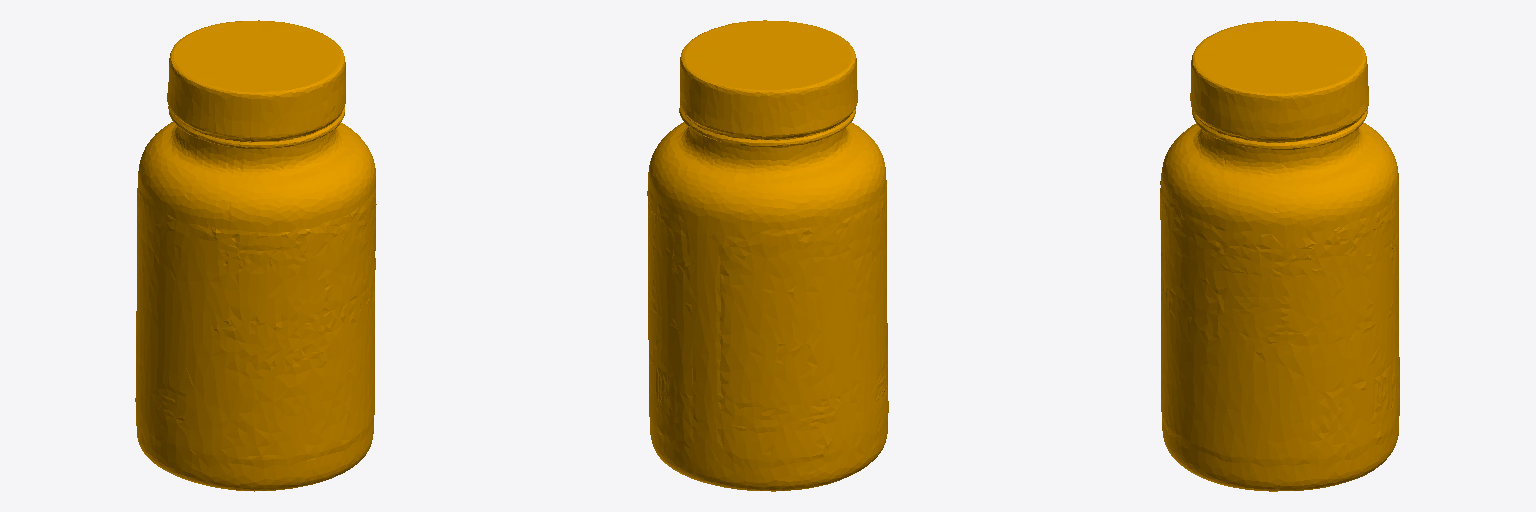
URDF robot description (Blackcurrant_Lutein):

<robot name="Blackcurrant_Lutein">
    <link name="base">
        <inertial>
            <origin xyz="-6.469890031663193e-19 5.314552526009052e-19 1.2015510058803074e-17" />
            <mass value="0.00019092386043151614" />
            <inertia ixx="1.5956811375093185e-07" ixy="-8.785752867916258e-11" 
                     ixz="-4.143332407227181e-10" iyy="1.596148145908433e-07" 
                     iyz="1.9334443624028144e-10" izz="6.380066635999096e-08" />
        </inertial>
        <visual>
            <origin xyz="0 0 0" />
            <geometry>
                <mesh filename="visual_geometry.obj" />
            </geometry>
        </visual>
        <collision>
            <origin xyz="0 0 0" />
            <geometry>
                <mesh filename="collision_geometry.obj" />
            </geometry>
        </collision>
    </link>
</robot>

--- Render facts (derived) ---
Views: 3 orthographic renders of the robot side by side, from view 1: azimuth 30°, elevation 25°; view 2: azimuth 150°, elevation 25°; view 3: azimuth 270°, elevation 25°.
Robot: Blackcurrant_Lutein — 1 links, 0 joints (none); root link base; default pose: every joint at zero.
Visible links, largest first — view 1: base; view 2: base; view 3: base.
Link boxes in pixels (x1,y1,x2,y2): base: [135, 20, 376, 491]; base: [647, 20, 888, 491]; base: [1160, 20, 1399, 491].
Size in the robot's own frame: 0.0542 by 0.0539 by 0.0973 metres.
Meshes: 1 distinct files referenced, 1 mesh visuals loaded (1 OBJ).